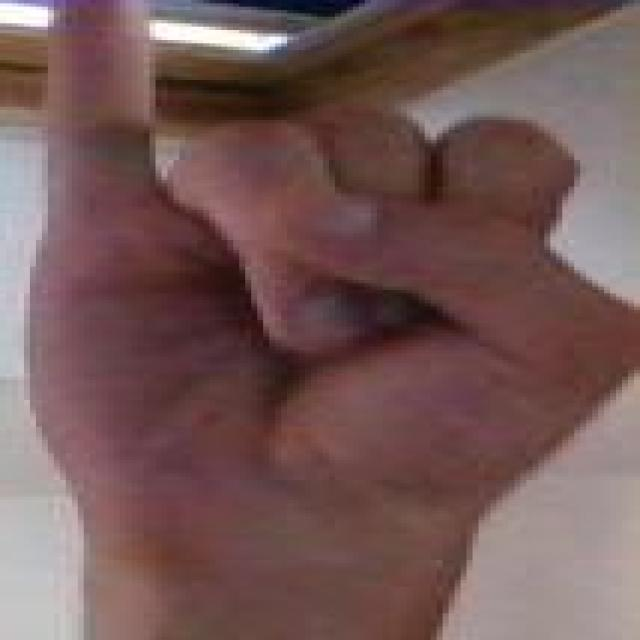I: (3, 2, 640, 623)
